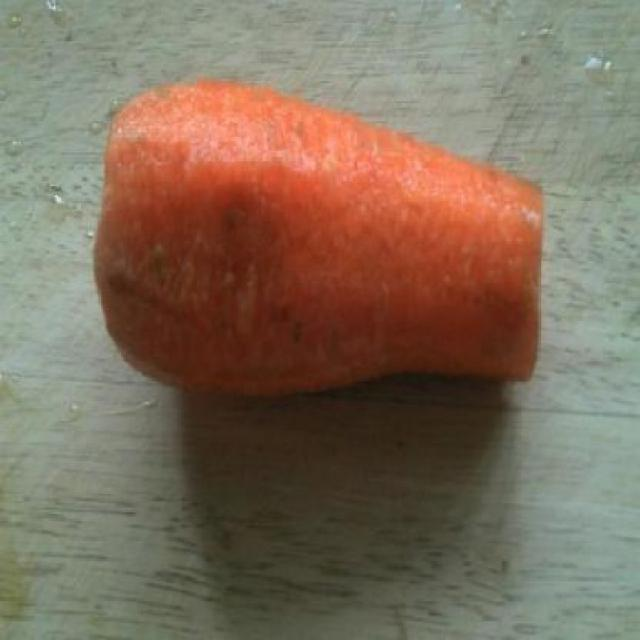carrot: (94, 75, 546, 400)
